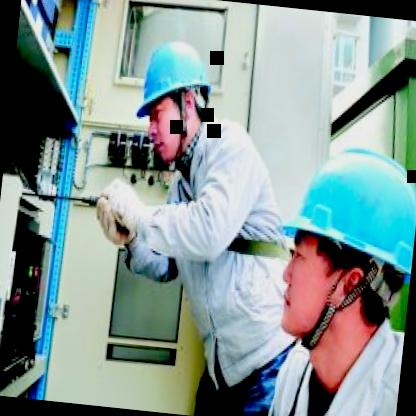helmet: (263, 124, 416, 361), (128, 22, 222, 170)
